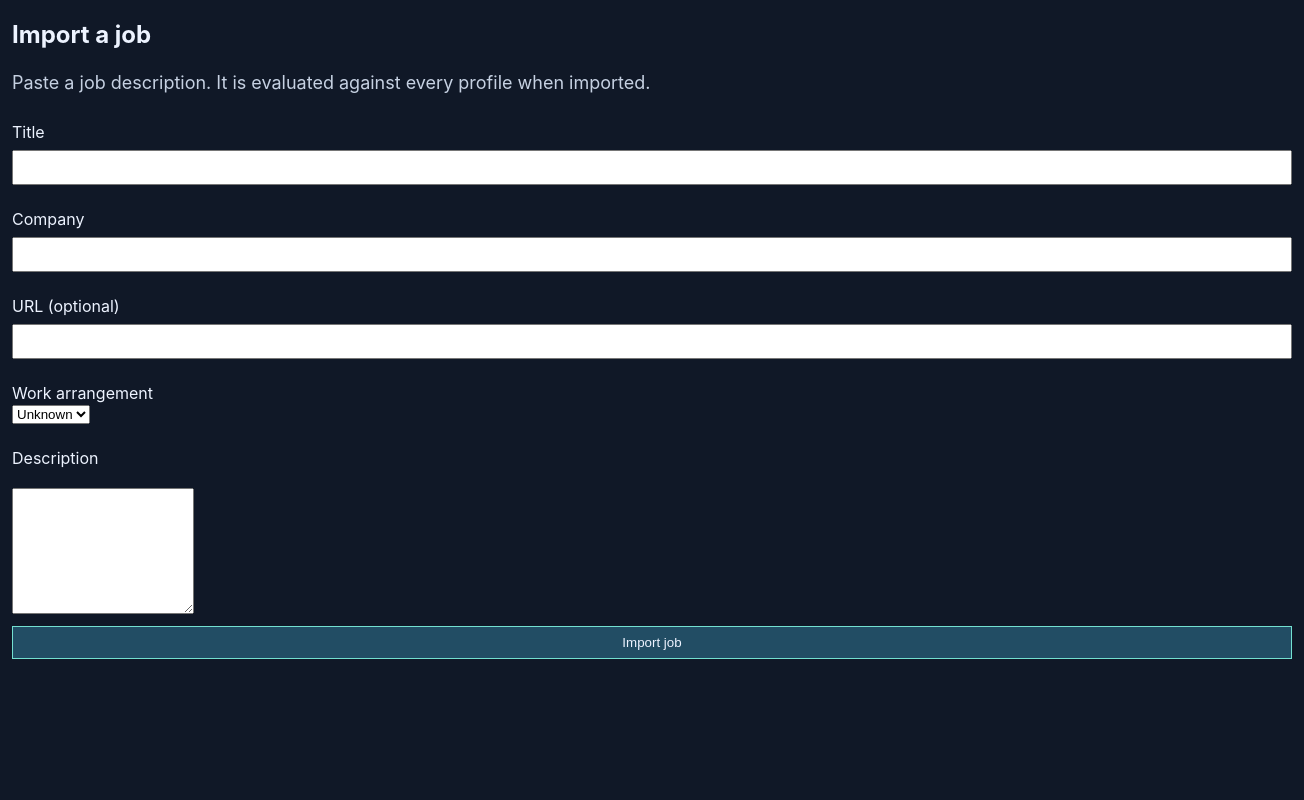
Scenario: ImportJob › shows a validation message on 422
The width and height of the screenshot is (1304, 800).
In the field labelled "Title": (652, 167) [12, 150, 1292, 185], type "Staff Engineer"
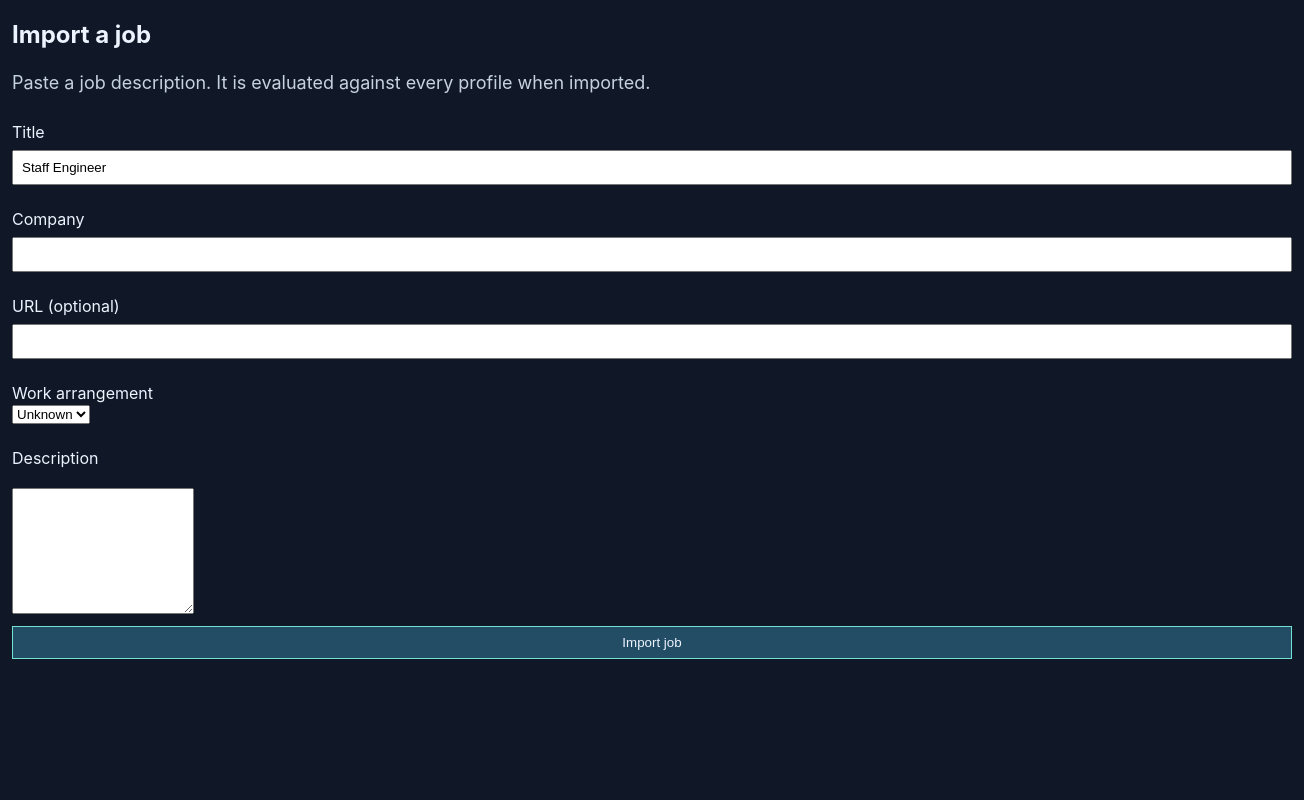
In the field labelled "Company": (652, 254) [12, 237, 1292, 272], type "Acme"
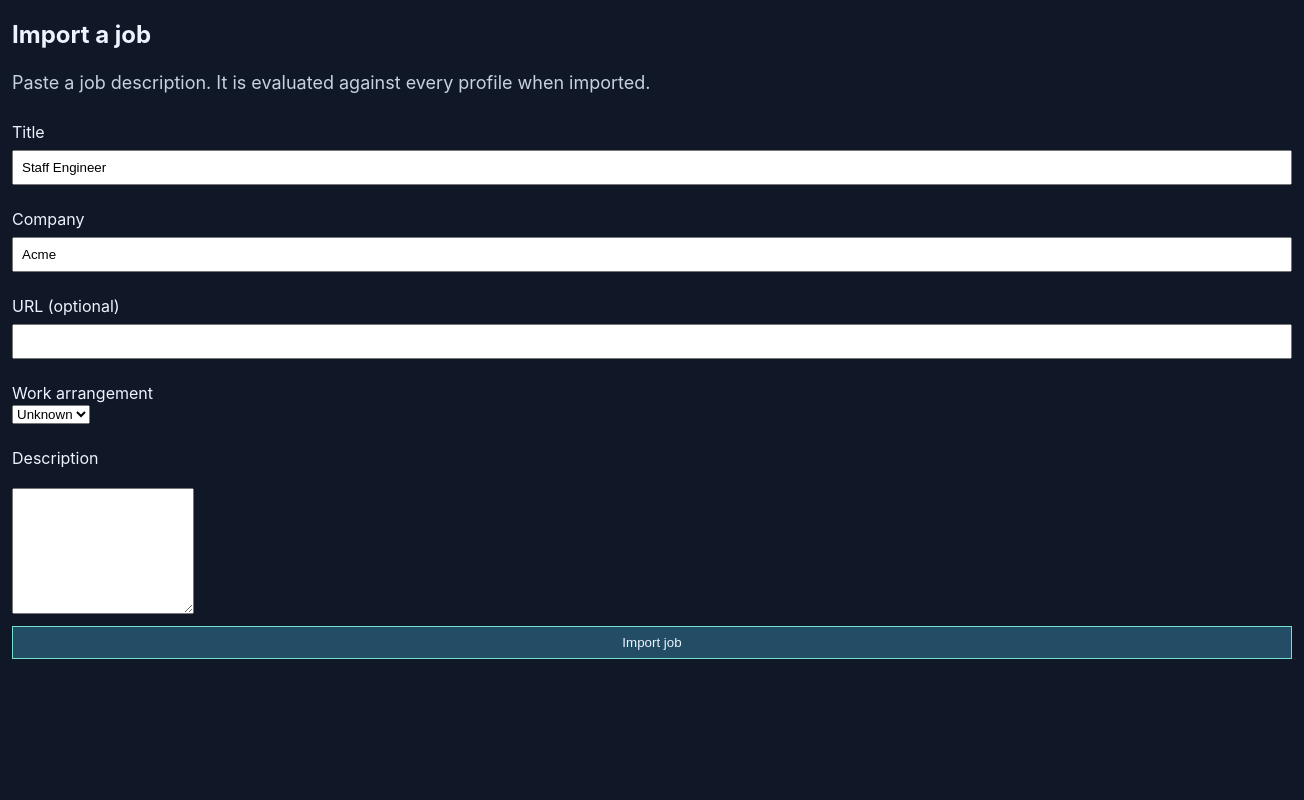
In the text box labelled "Description": (103, 551) [12, 488, 194, 614], type "Build things"
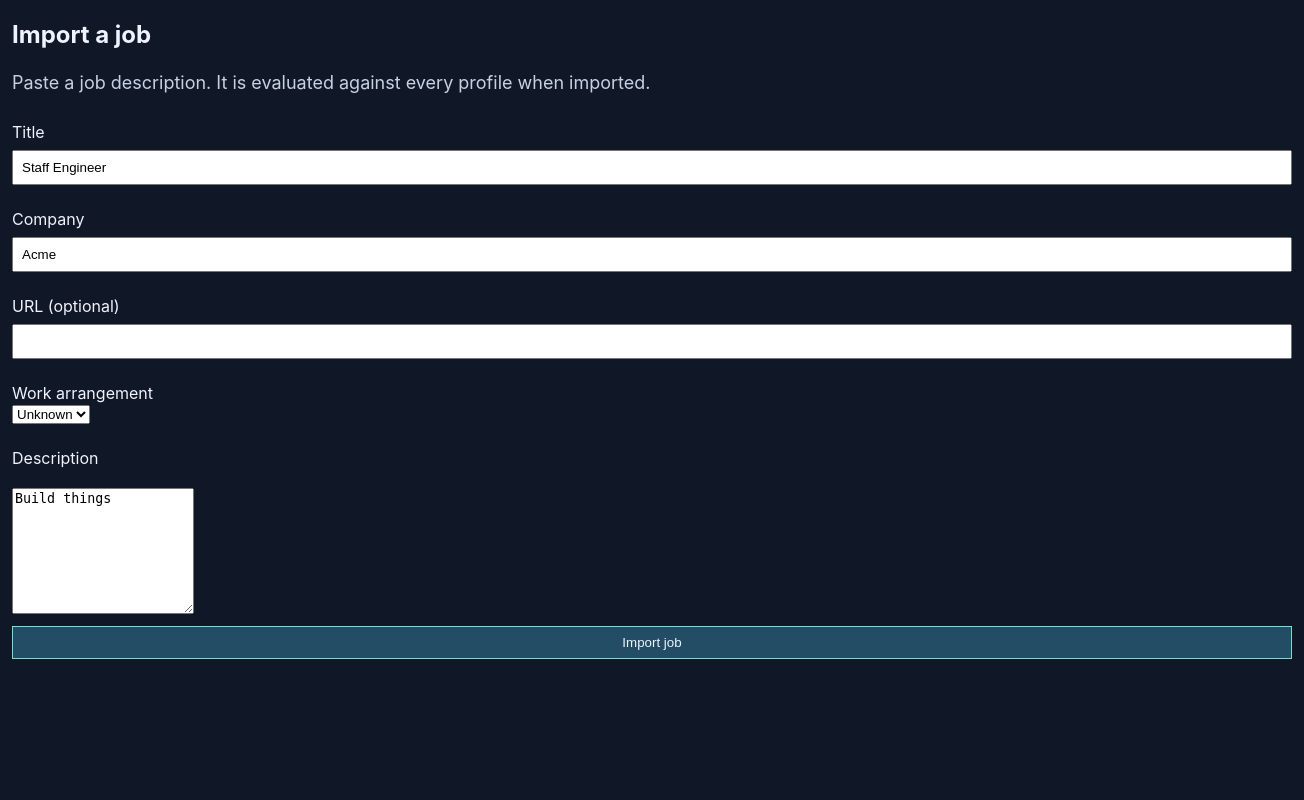
Click the button "Import job": (652, 642) [12, 626, 1292, 659]
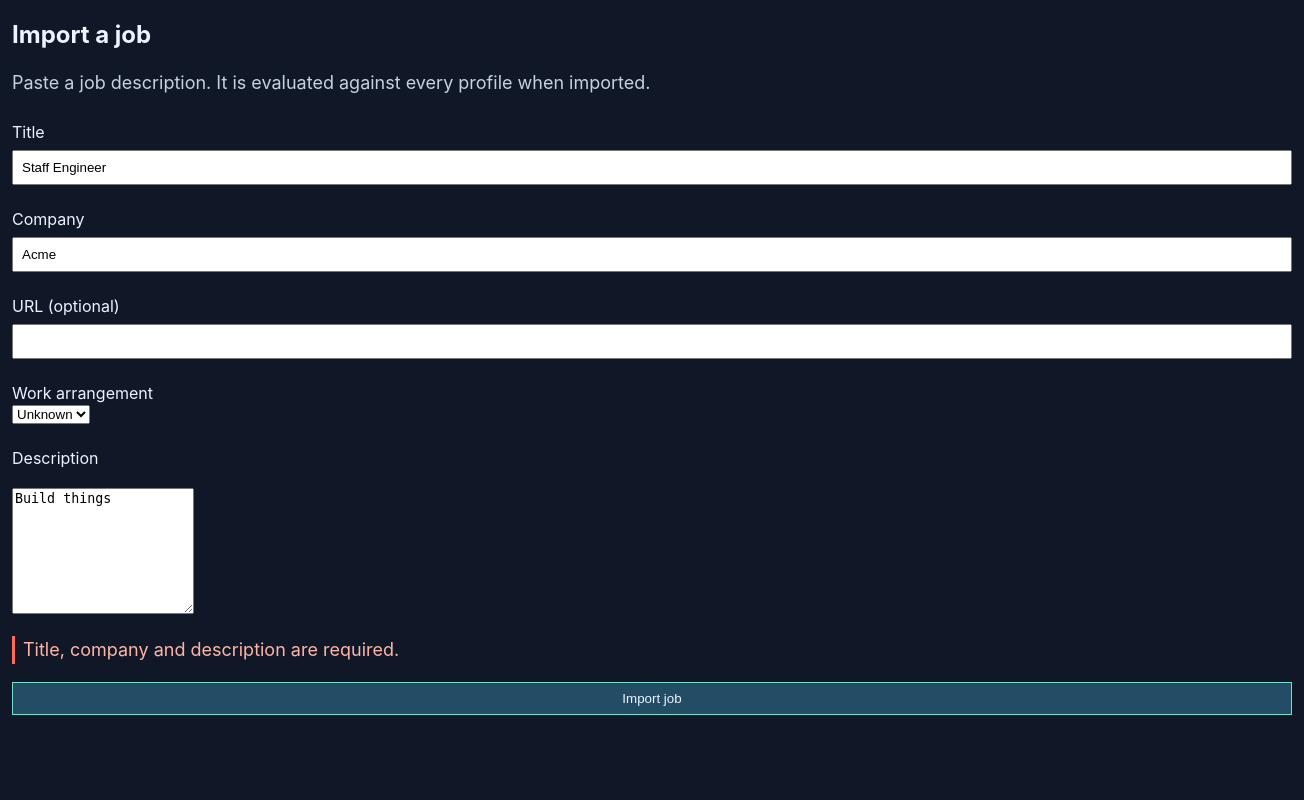
Expected: the message shows "required", [23, 639, 399, 660]
